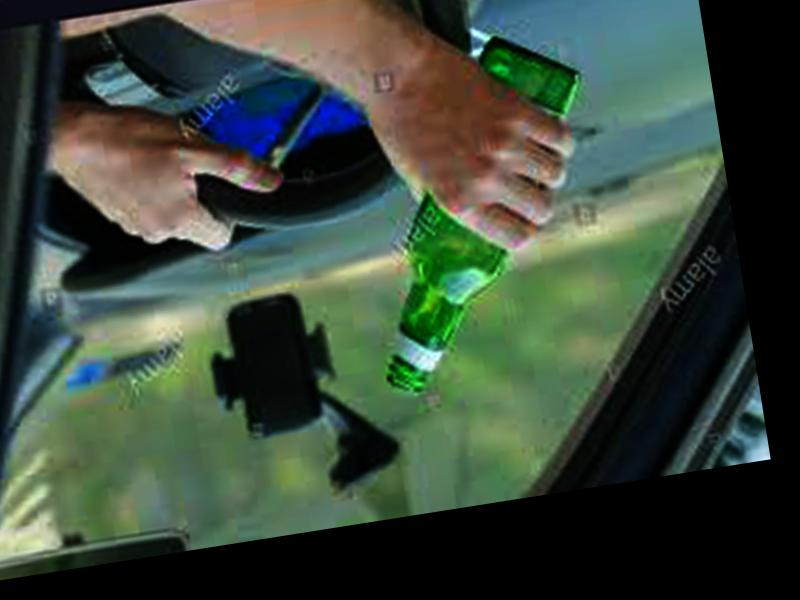Beer: (339, 22, 615, 392)
